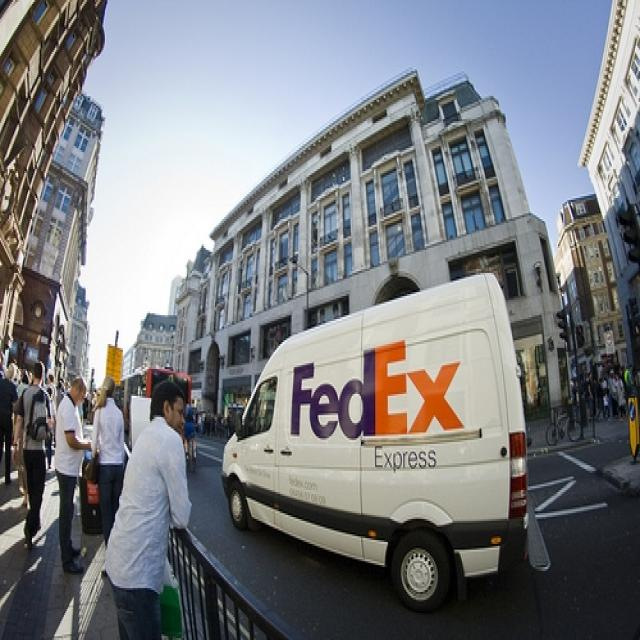fedex: (283, 333, 473, 447)
